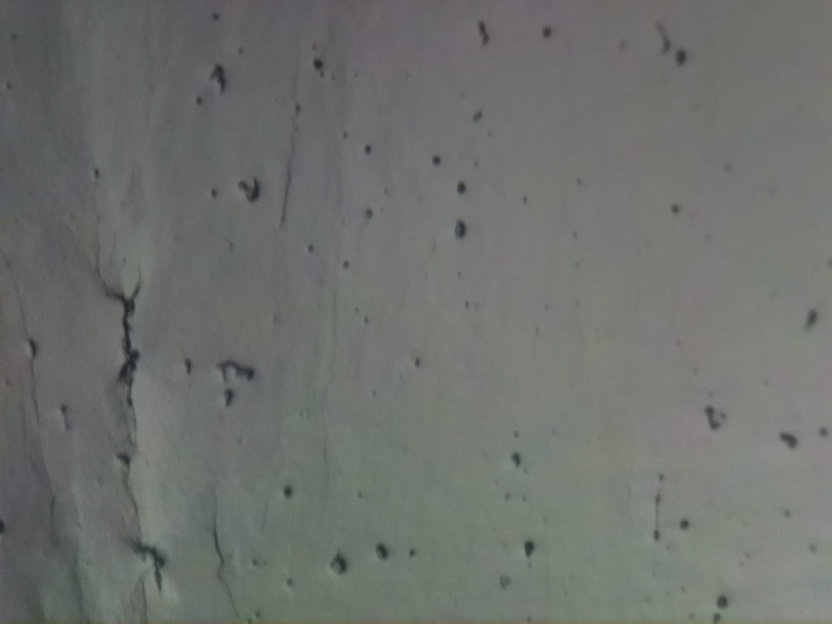crack: (108, 262, 144, 409)
